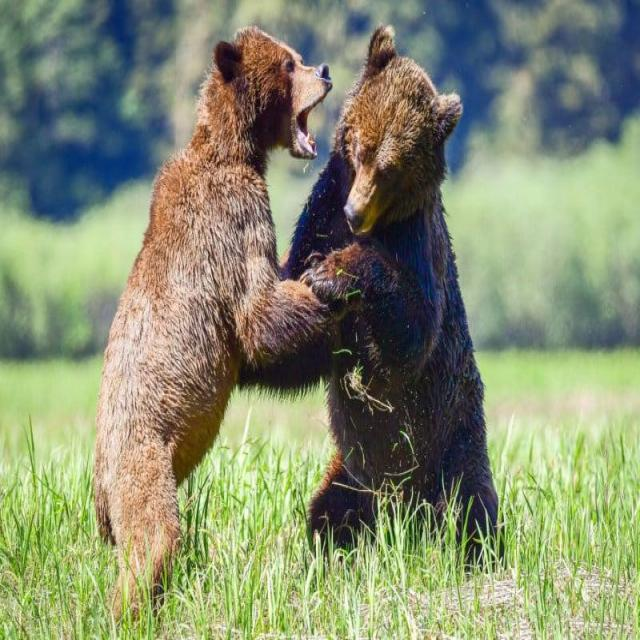Bear: (93, 28, 333, 602), (247, 28, 501, 549)
